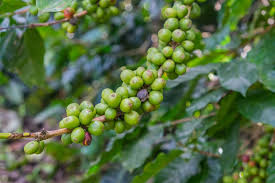grapes: (57, 6, 199, 152)
